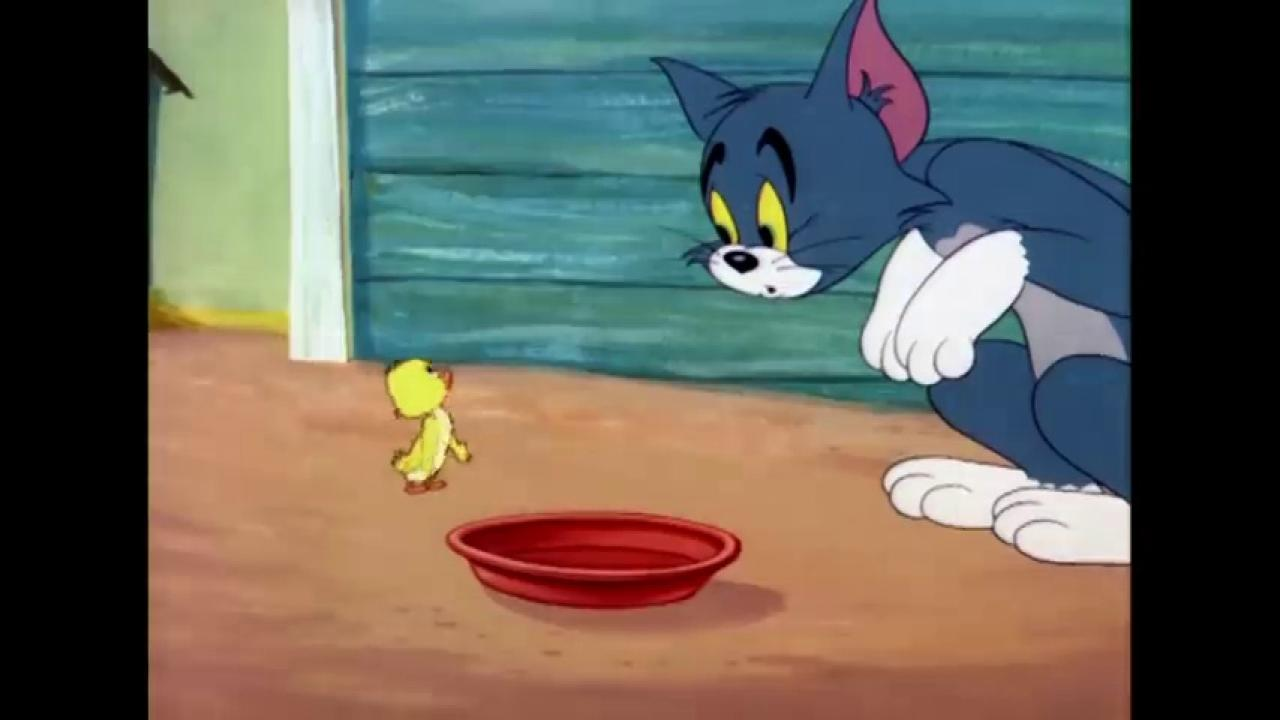Tom: (648, 0, 1129, 564)
